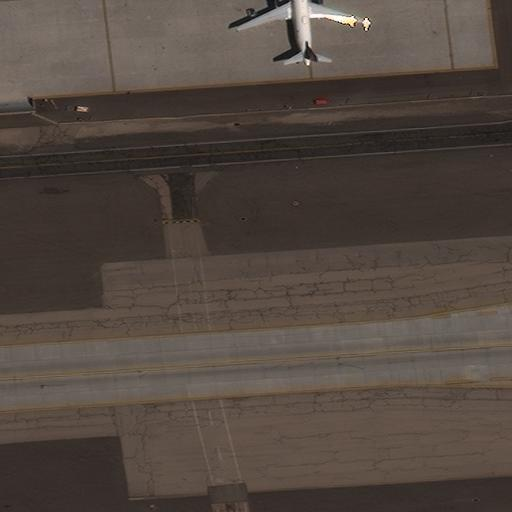Medium Civil Transport: (236, 0, 363, 66)
